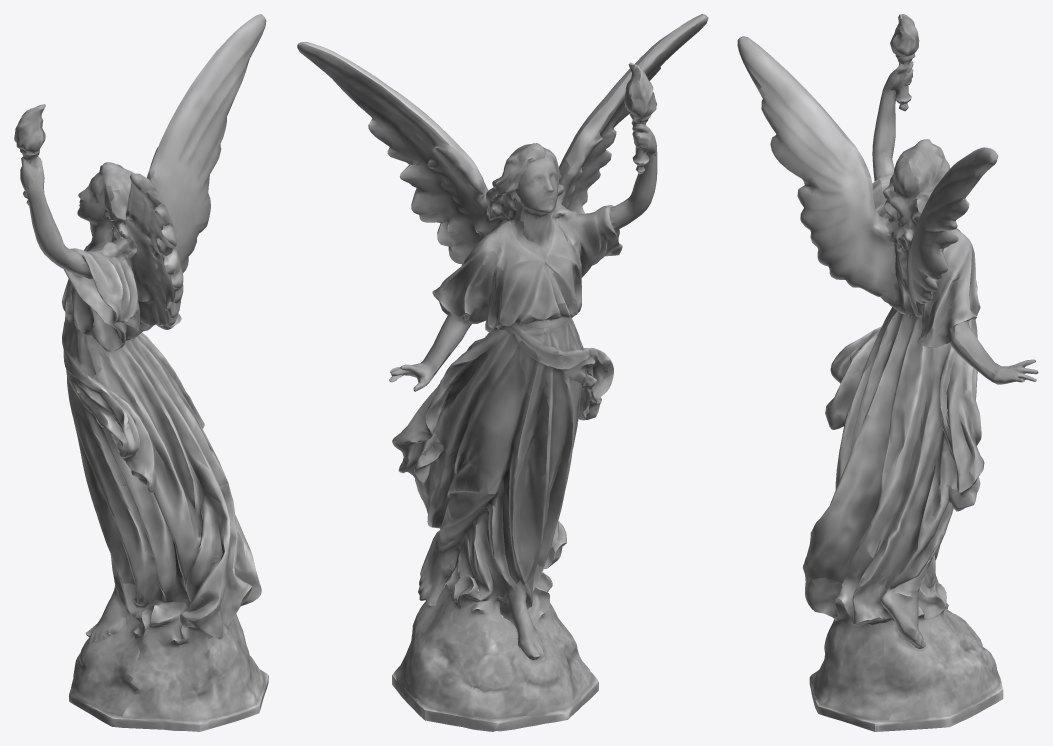
Rendered from Statue.gltf.
The picture shows the model from 3 angles, left to right: view 1: azimuth 30°, elevation 25°; view 2: azimuth 150°, elevation 25°; view 3: azimuth 270°, elevation 25°; orthographic projection. The views are drawn at different scales.
Parts seen in each view (by area): view 1: Winged_Victory; view 2: Winged_Victory; view 3: Winged_Victory.
Boxes of the visible parts, left/top/right/bottom form: Winged_Victory: left=14, top=14, right=268, bottom=731; Winged_Victory: left=297, top=14, right=708, bottom=731; Winged_Victory: left=737, top=14, right=1038, bottom=731.
Bounding box in the file's own units: 10.54 × 21.29 × 9.46.
1 material, 1 textured.
